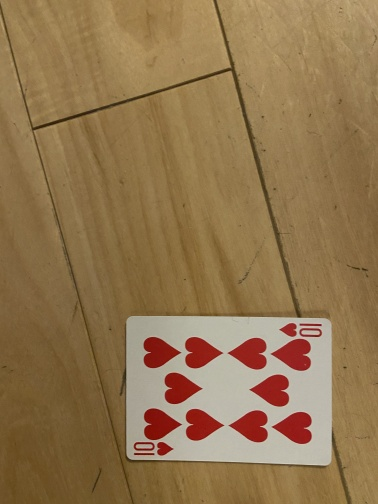ten: (124, 315, 334, 467)
